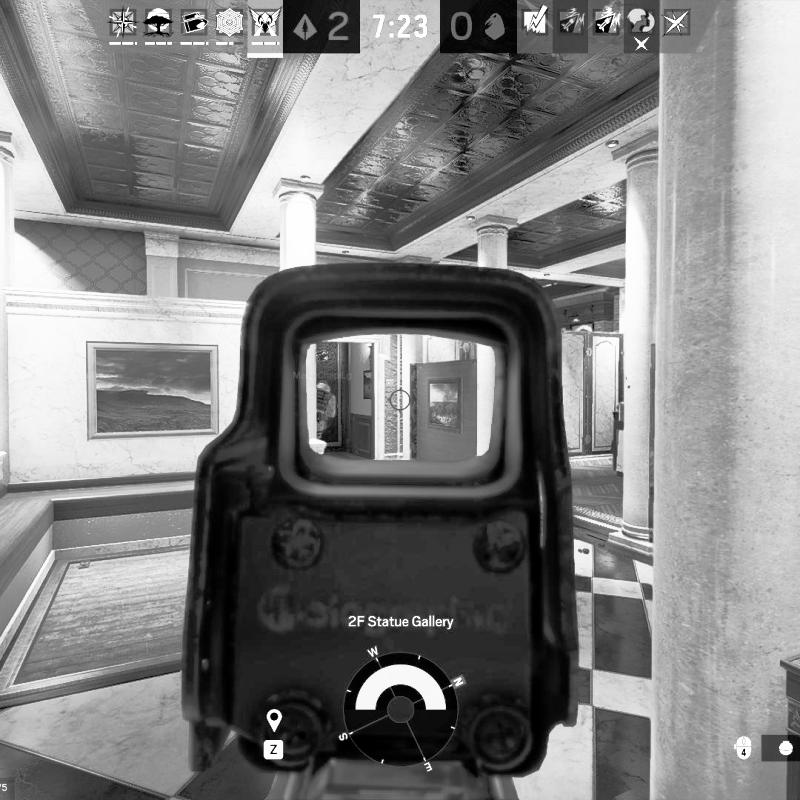Character: (314, 379, 336, 442)
Friend_label: (292, 348, 354, 381)
Head: (318, 379, 328, 388)
